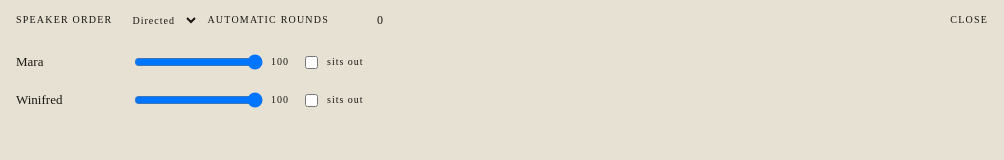
Test: a failure after a confirmed save reverts to the last confirmed settings
Click the checkbox named "Mara sits out": (312, 62) [305,56,318,68]
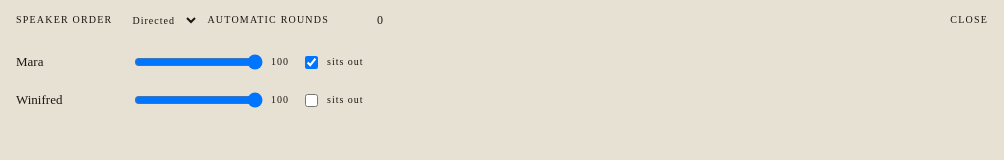
Click the checkbox named "Winifred sits out": (312, 100) [305,94,318,106]
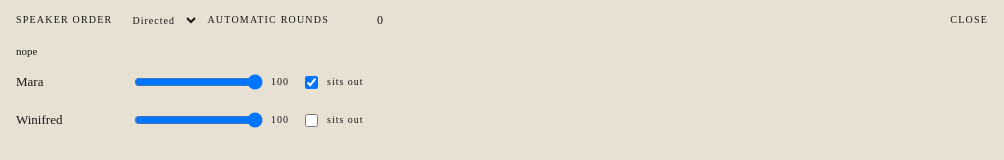
Expected: the checkbox named "Winifred sits out" is not checked, [305,114,318,126]
Expected: the checkbox named "Mara sits out" is checked, [305,76,318,88]
Expected: the message reads "nope", [16,45,37,57]
